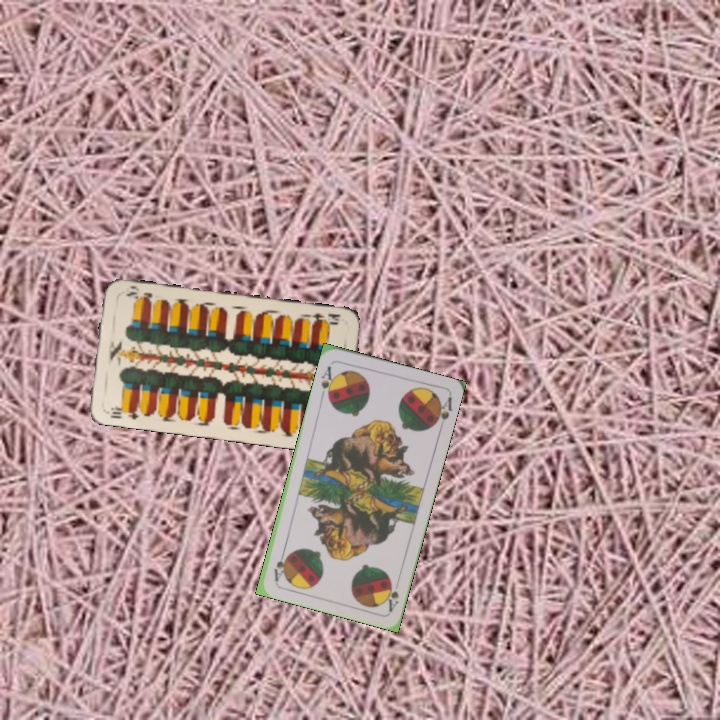E10: (304, 309, 343, 328), (106, 402, 141, 422)
SA: (317, 362, 338, 402), (381, 576, 401, 614)
